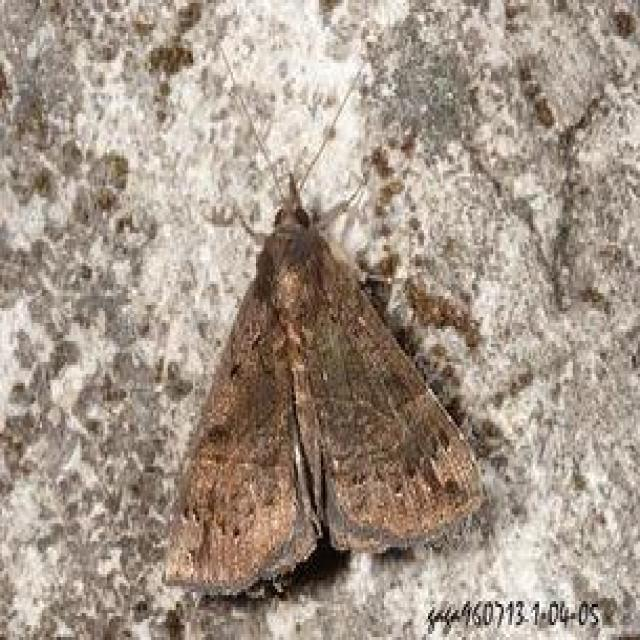BeetArmyWorm-Adult-: (128, 161, 512, 598)
